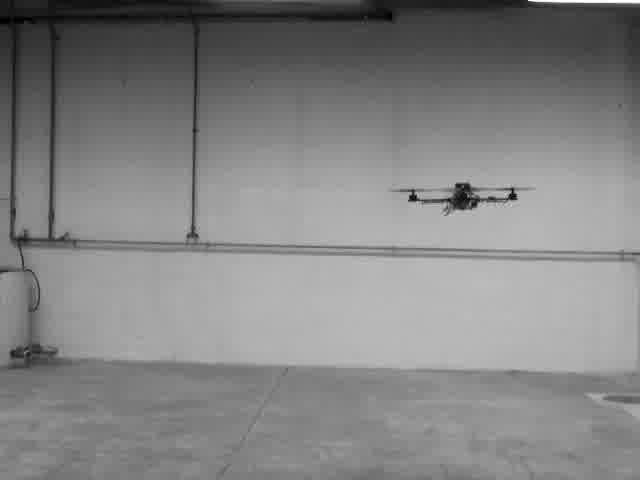drone: (385, 178, 537, 221)
